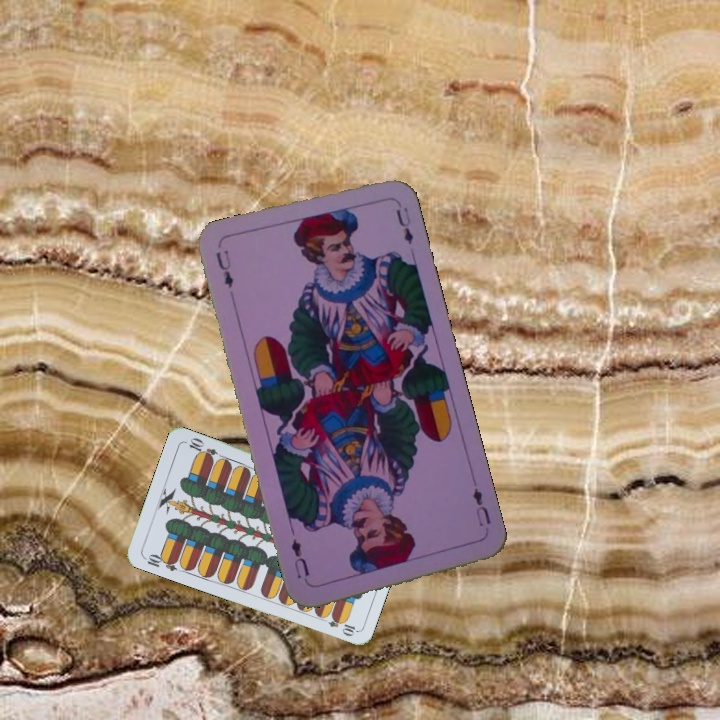E10: (140, 550, 180, 574)
EU: (469, 484, 494, 529), (212, 245, 236, 291)
